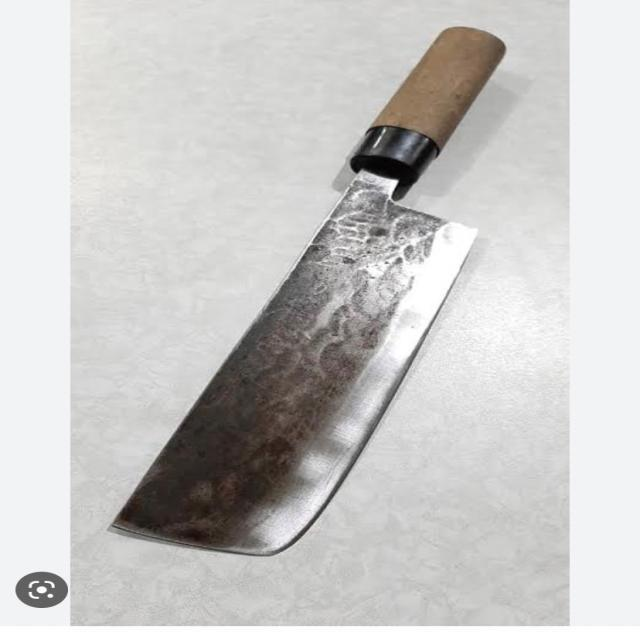Knife: (90, 29, 523, 558)
